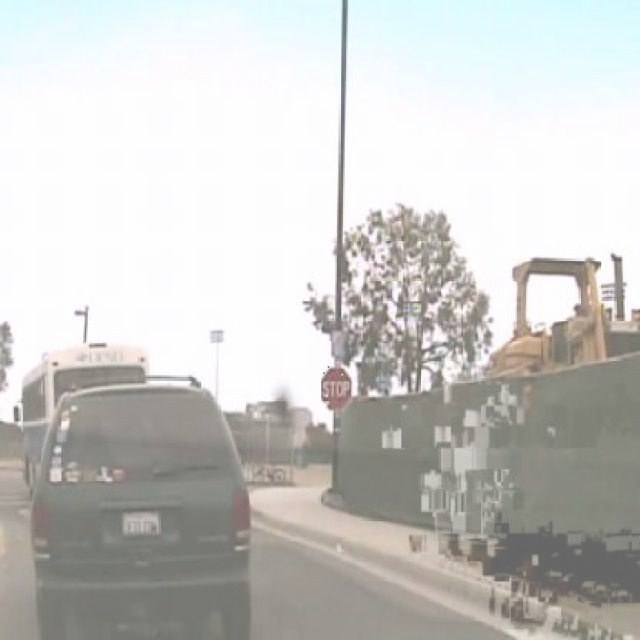stop: (318, 364, 352, 410)
